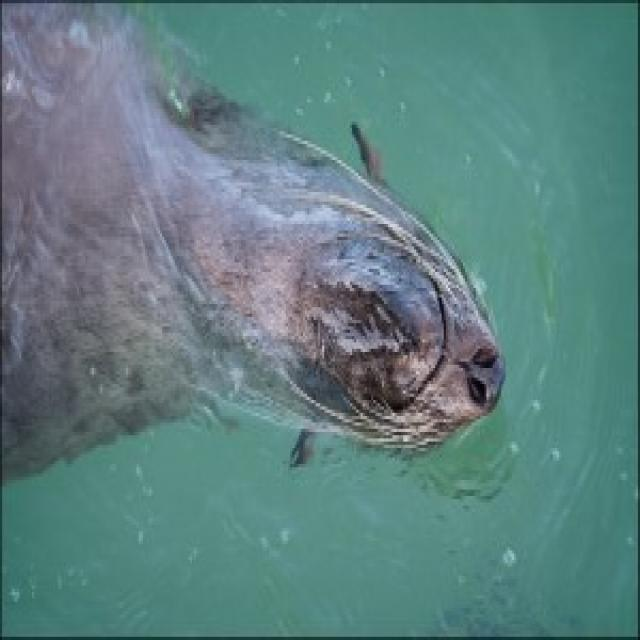Seal: (0, 0, 524, 475)
